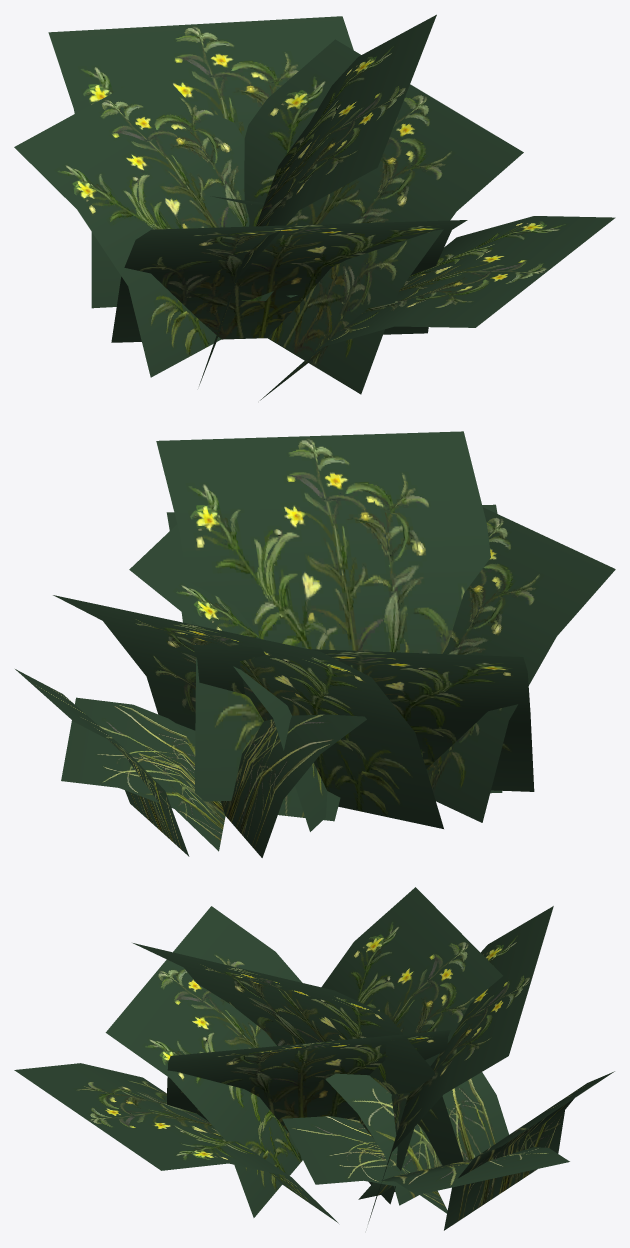
File: gonggong_hua02.FBX
3 views of the same model, one above another, from view 1: azimuth 30°, elevation 25°; view 2: azimuth 150°, elevation 25°; view 3: azimuth 270°, elevation 25° (orthographic). The views are drawn at different scales.
Visible parts, largest first — view 1: DrawCall_0210; view 2: DrawCall_0210; view 3: DrawCall_0210.
Part boxes in pixels (x1,y1,x2,y2): DrawCall_0210: (14, 14, 615, 400); DrawCall_0210: (15, 431, 615, 857); DrawCall_0210: (14, 887, 614, 1230).
Size of the model in its own units: 375 by 218 by 459.
